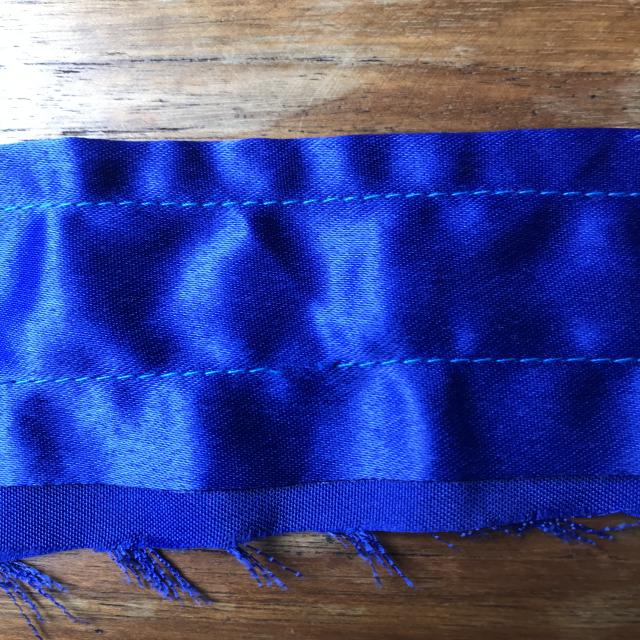broken: (219, 349, 385, 386)
good: (231, 188, 380, 216)
